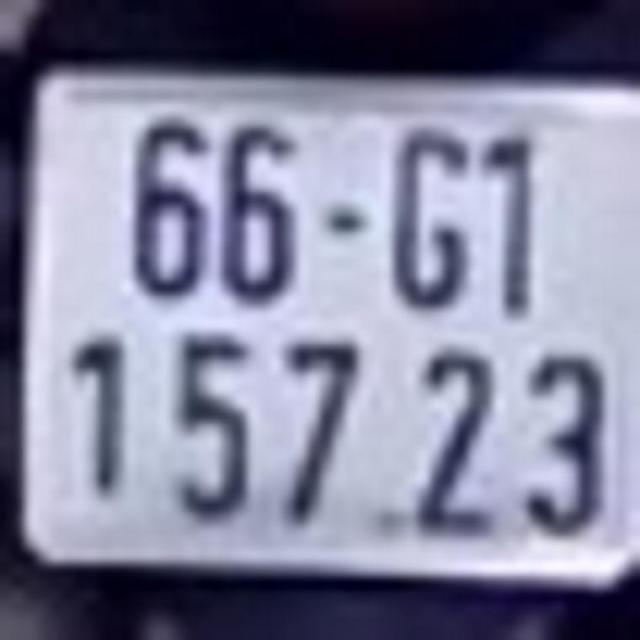1: (479, 125, 547, 316), (64, 322, 136, 496)
2: (418, 334, 496, 540)
3: (528, 338, 606, 537)
5: (177, 323, 250, 519)
6: (218, 110, 298, 304), (131, 110, 209, 300)
7: (280, 324, 362, 528)
G: (388, 113, 471, 313)
